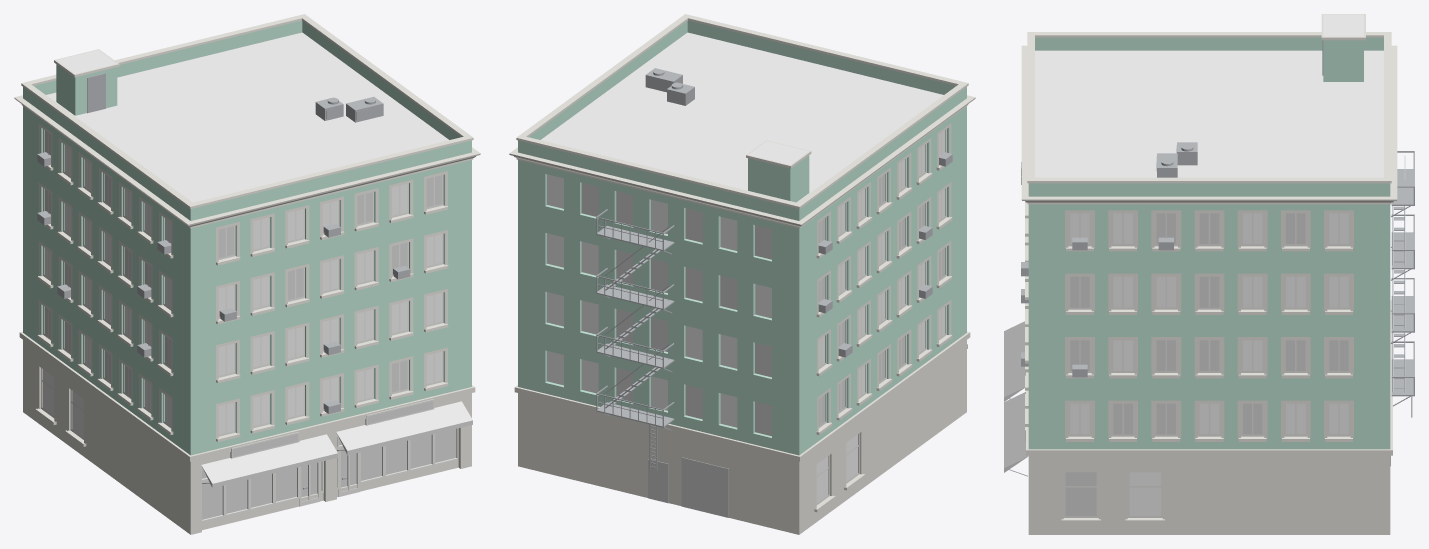
Rendered from midtown_w60f4.glb.
3 views of the same model, side by side, from view 1: azimuth 30°, elevation 25°; view 2: azimuth 150°, elevation 25°; view 3: azimuth 270°, elevation 25° (orthographic). The views are drawn at different scales.
Parts seen in each view (by area): view 1: midtown_w60f4_Walls, midtown_w60f4_Trim, midtown_w60f4_Roof, midtown_w60f4_Glass, midtown_w60f4_WindowsLit, midtown_w60f4_Frames, midtown_w60f4_Awning, midtown_w60f4_Details, midtown_w60f4_Sign; view 2: midtown_w60f4_Walls, midtown_w60f4_Trim, midtown_w60f4_Roof, midtown_w60f4_Glass, midtown_w60f4_WindowsLit, midtown_w60f4_Details, midtown_w60f4_Doors, midtown_w60f4_Frames; view 3: midtown_w60f4_Walls, midtown_w60f4_Trim, midtown_w60f4_Roof, midtown_w60f4_Glass, midtown_w60f4_Frames, midtown_w60f4_WindowsLit, midtown_w60f4_Details, midtown_w60f4_Awning.
Boxes of the visible parts, x1,y1,x2,y2 form: midtown_w60f4_Walls: [23, 20, 471, 455]; midtown_w60f4_Trim: [14, 14, 480, 534]; midtown_w60f4_Roof: [46, 32, 448, 202]; midtown_w60f4_Glass: [42, 145, 442, 437]; midtown_w60f4_WindowsLit: [44, 130, 456, 519]; midtown_w60f4_Frames: [41, 129, 458, 522]; midtown_w60f4_Awning: [201, 401, 472, 488]; midtown_w60f4_Details: [37, 73, 410, 489]; midtown_w60f4_Sign: [232, 401, 433, 456]; midtown_w60f4_Walls: [518, 20, 966, 455]; midtown_w60f4_Trim: [509, 14, 975, 534]; midtown_w60f4_Roof: [541, 32, 943, 202]; midtown_w60f4_Glass: [547, 130, 945, 503]; midtown_w60f4_WindowsLit: [581, 174, 945, 436]; midtown_w60f4_Details: [596, 68, 952, 470]; midtown_w60f4_Doors: [648, 457, 728, 517]; midtown_w60f4_Frames: [816, 129, 946, 505]; midtown_w60f4_Walls: [1028, 37, 1390, 449]; midtown_w60f4_Trim: [1021, 14, 1397, 534]; midtown_w60f4_Roof: [1035, 14, 1383, 177]; midtown_w60f4_Glass: [1070, 213, 1348, 515]; midtown_w60f4_Frames: [1025, 213, 1350, 517]; midtown_w60f4_WindowsLit: [1065, 213, 1348, 515]; midtown_w60f4_Details: [1009, 40, 1414, 476]; midtown_w60f4_Awning: [1004, 321, 1028, 472].
Bounding box in the file's own units: 62.6 × 72.54 × 70.4.
